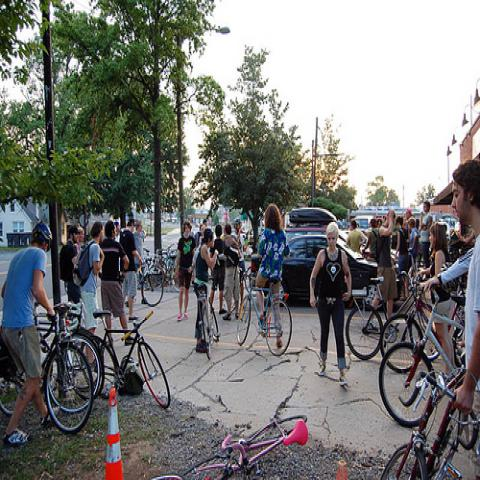car: (250, 235, 378, 304), (283, 208, 348, 241)
